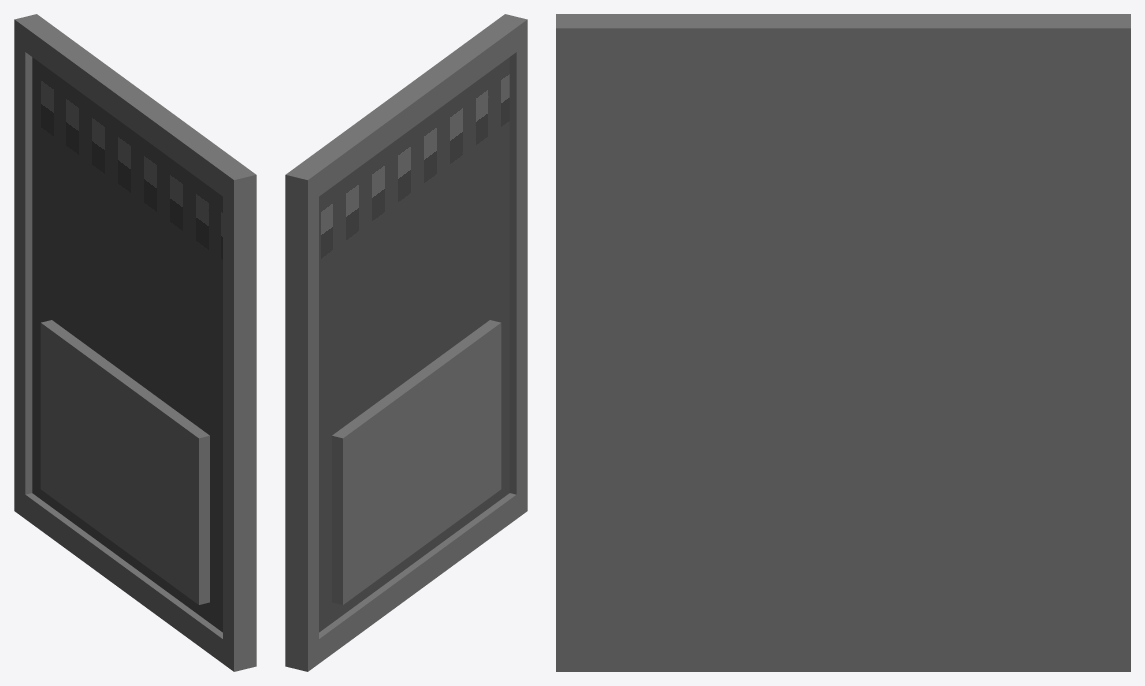
3 views of the same model, side by side, from view 1: azimuth 30°, elevation 25°; view 2: azimuth 150°, elevation 25°; view 3: azimuth 270°, elevation 25° (orthographic). The views are drawn at different scales.
Visible parts, largest first — view 1: cube; view 2: cube; view 3: cube.
Boxes of the visible parts, x1,y1,x2,y2 form: cube: (14,14,256,671); cube: (285,14,527,671); cube: (556,14,1130,671).
Size of the model in its own units: 7.5 by 131 by 106.
Materials: 1 (1 with a texture image).
